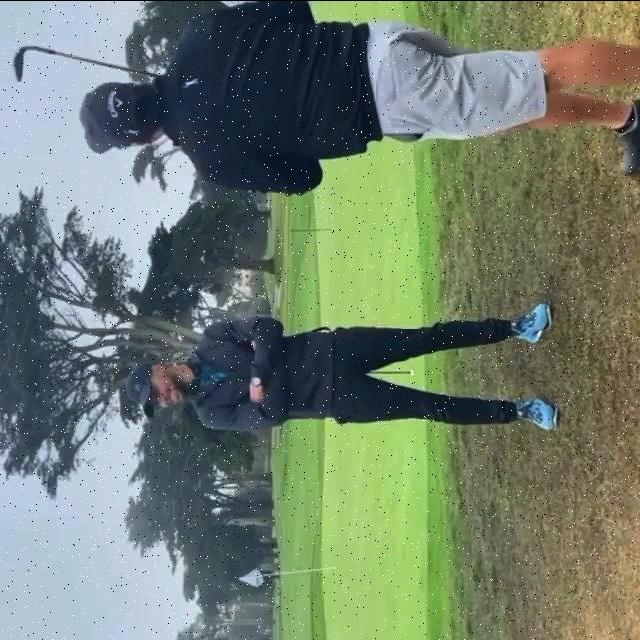ClubHandle: (10, 40, 166, 86)
ClubHead: (13, 49, 25, 83)
